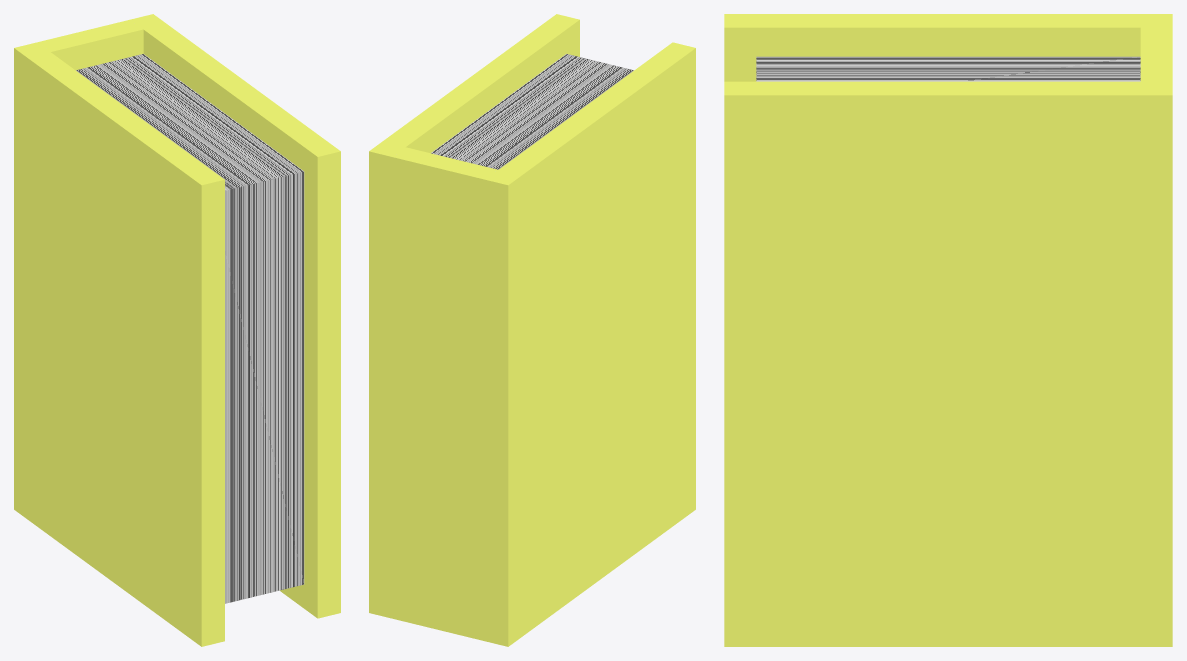
Rendered from book_yellow.glb.
3 renders of one model, left to right at view 1: azimuth 30°, elevation 25°; view 2: azimuth 150°, elevation 25°; view 3: azimuth 270°, elevation 25°, orthographic. The views are drawn at different scales.
Bounding box in the file's own units: 12 × 38 × 28.
Materials: 1 (1 with a texture image).
